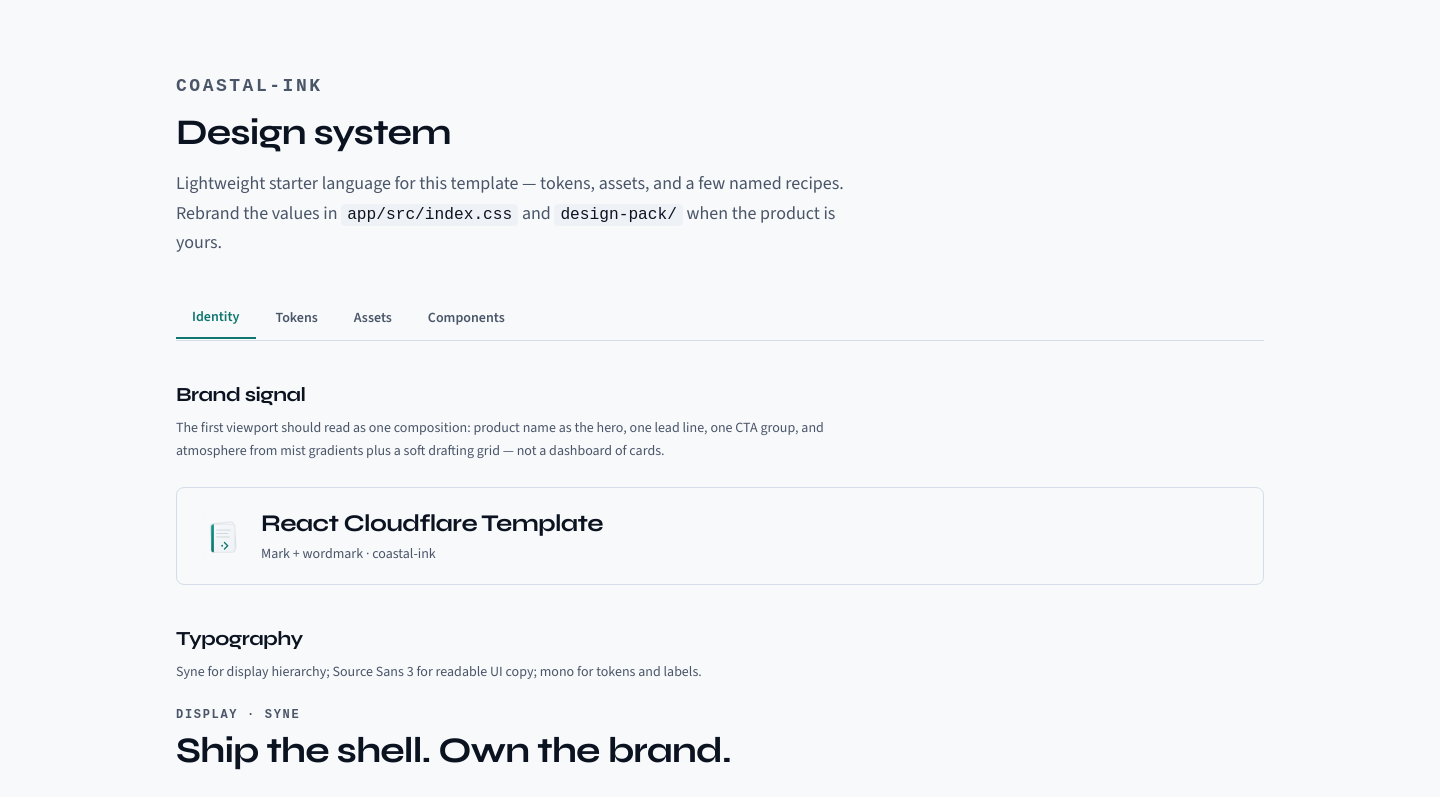
Test: DesignSystemPage › shows CTA recipes on the Components tab
Click the tab "Components".
click(466, 318)  # box [412,297,521,339]
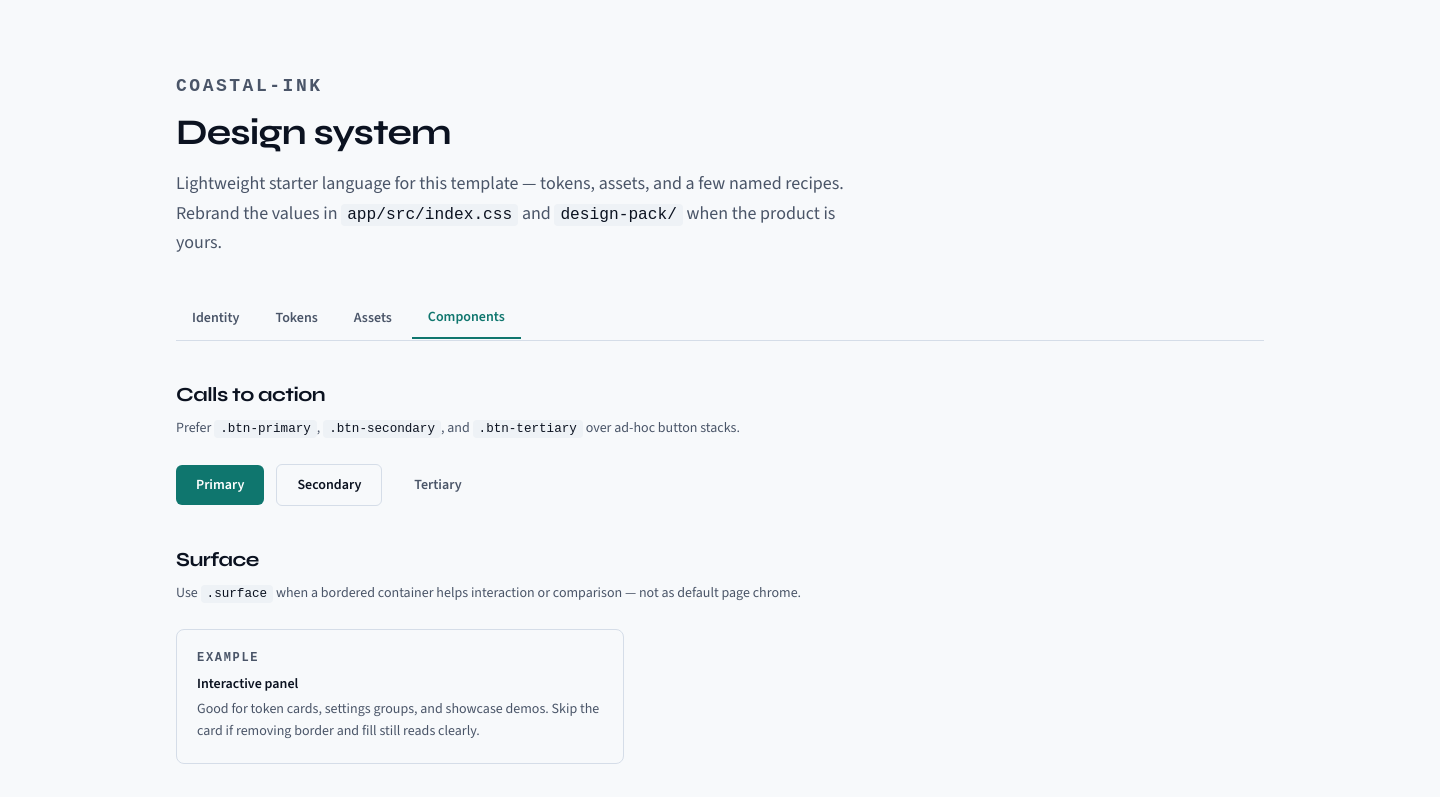
Now the button "Primary" is shown, box [176,465,264,505]
Now the button "Secondary" is shown, box [276,464,382,506]
Now the button "Tertiary" is shown, box [394,465,482,505]
